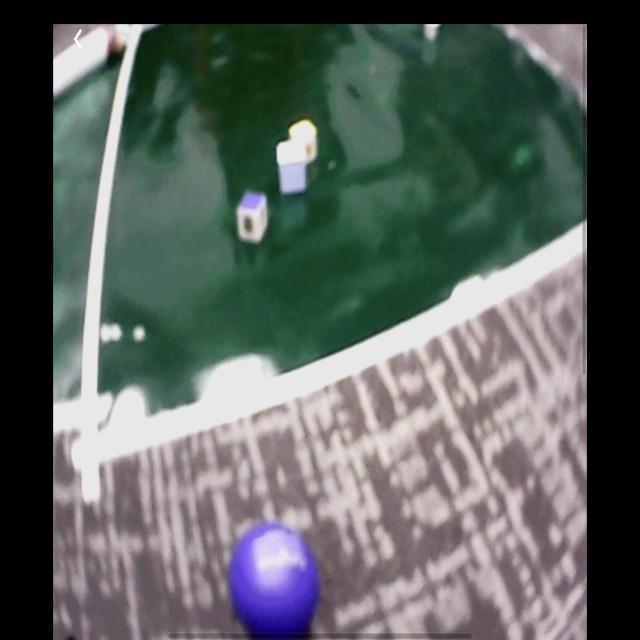ball: (231, 524, 318, 639)
